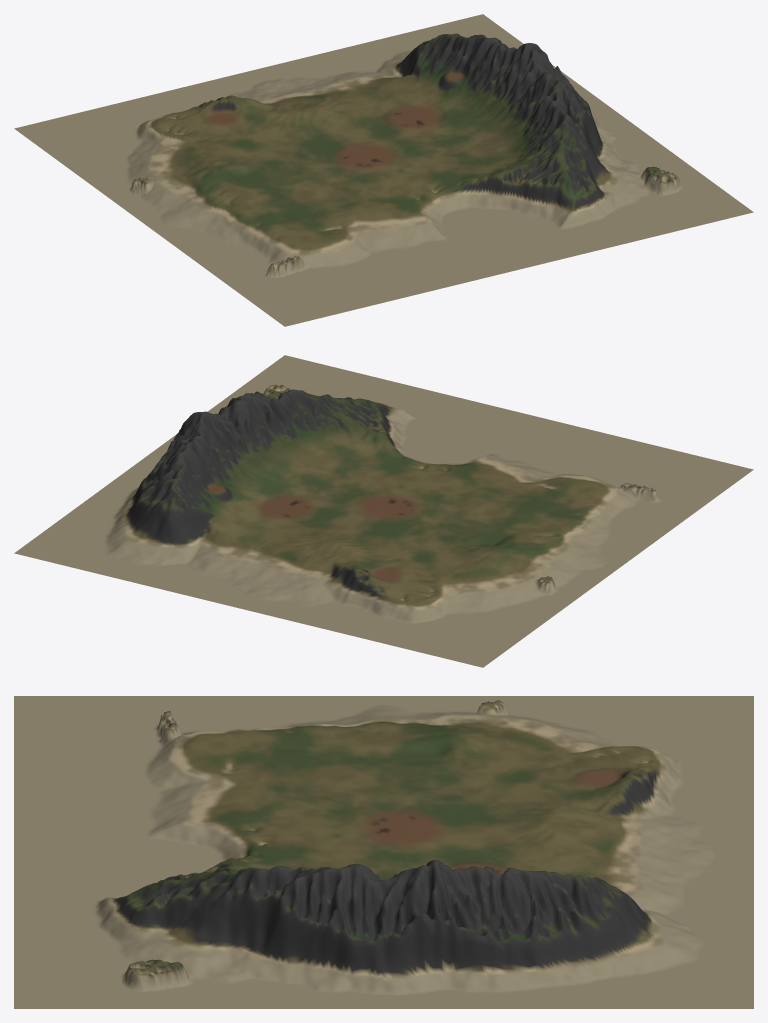
File: range-island.glb
3 views of the same model, one above another, from view 1: azimuth 30°, elevation 25°; view 2: azimuth 150°, elevation 25°; view 3: azimuth 270°, elevation 25° (orthographic). The views are drawn at different scales.
Parts seen in each view (by area): view 1: Anvil Key terrain; view 2: Anvil Key terrain; view 3: Anvil Key terrain.
Boxes of the visible parts, bbox=[...] form: Anvil Key terrain: bbox=[14, 14, 753, 326]; Anvil Key terrain: bbox=[14, 355, 753, 667]; Anvil Key terrain: bbox=[14, 696, 753, 1008].
Bounding box in the file's own units: 2400 × 361 × 2400.
